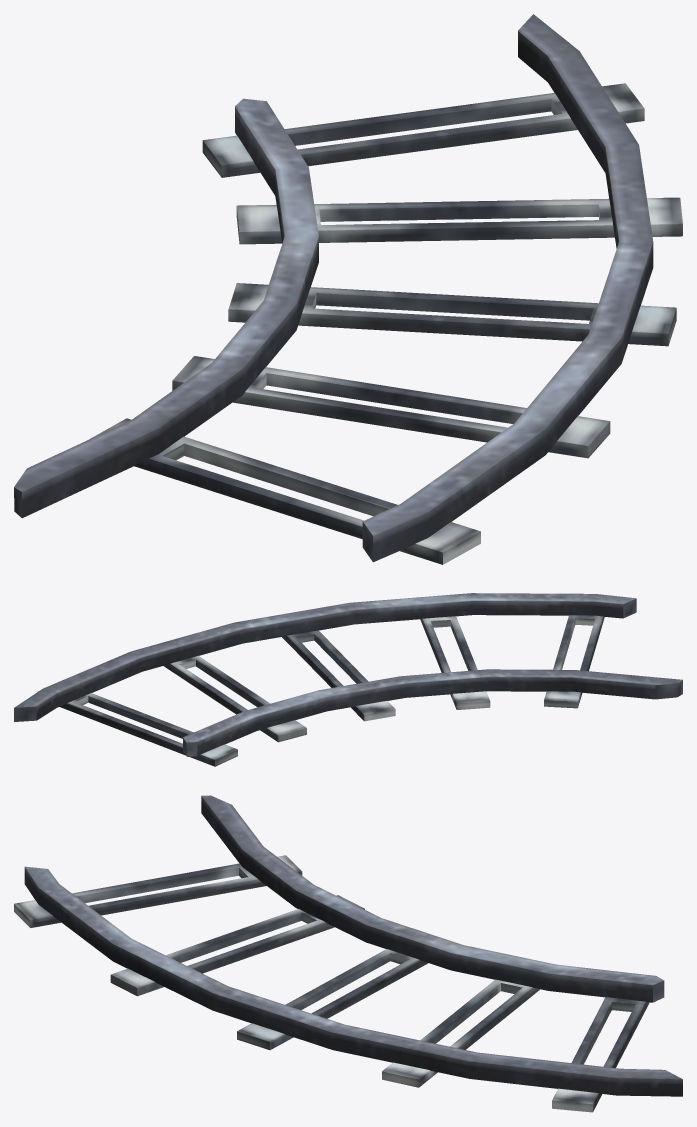
The model's file is yw_xuesebingfeng_tiedao02.FBX.
3 views of the same model, one above another, from view 1: azimuth 30°, elevation 25°; view 2: azimuth 150°, elevation 25°; view 3: azimuth 270°, elevation 25° (orthographic). The views are drawn at different scales.
Parts seen in each view (by area): view 1: yw_xuesebingfeng_tiedao02; view 2: yw_xuesebingfeng_tiedao02; view 3: yw_xuesebingfeng_tiedao02.
Boxes of the visible parts, bbox=[...] form: yw_xuesebingfeng_tiedao02: bbox=[14, 14, 682, 564]; yw_xuesebingfeng_tiedao02: bbox=[14, 593, 682, 766]; yw_xuesebingfeng_tiedao02: bbox=[14, 795, 682, 1112].
Size of the model in its own units: 724 by 29.3 by 702.
